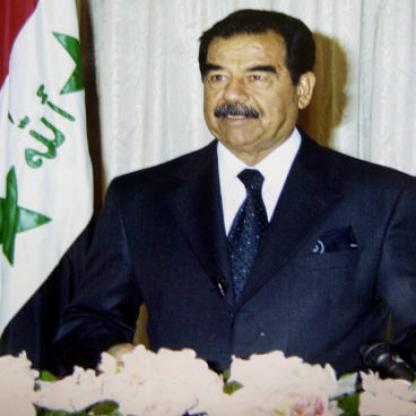face: (197, 16, 301, 151)
